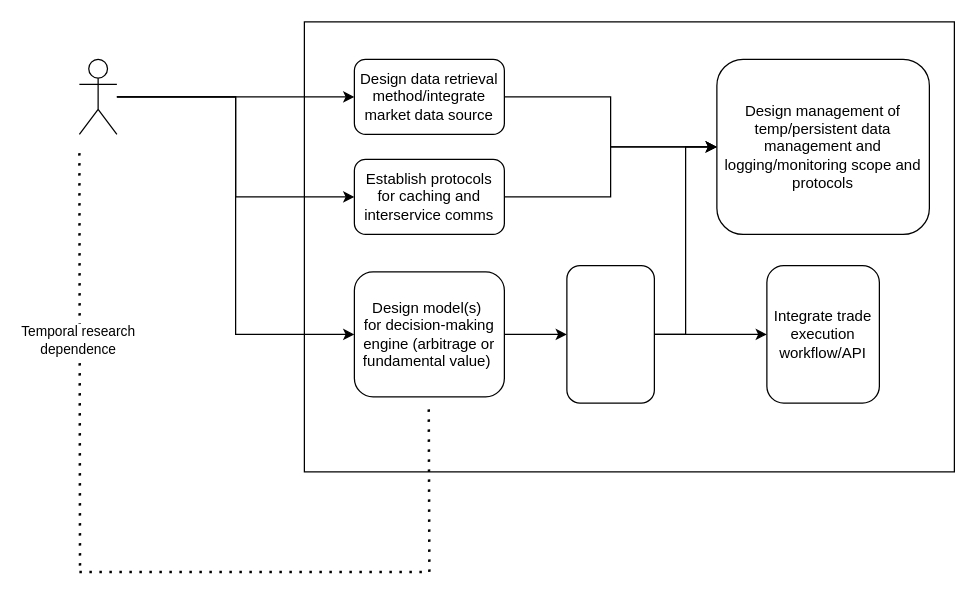
Some shapes in this 978 by 596 pixel diagram are drawn without their labels. The shapes that lost their labels are listed below. From the top down, each one's box as (x1, y1, x2, y2) in pixels, then its label:
(78, 58, 117, 134): Research Engineer
(566, 264, 654, 403): Message layer integration
